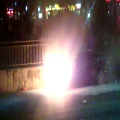fire: (33, 48, 72, 100)
